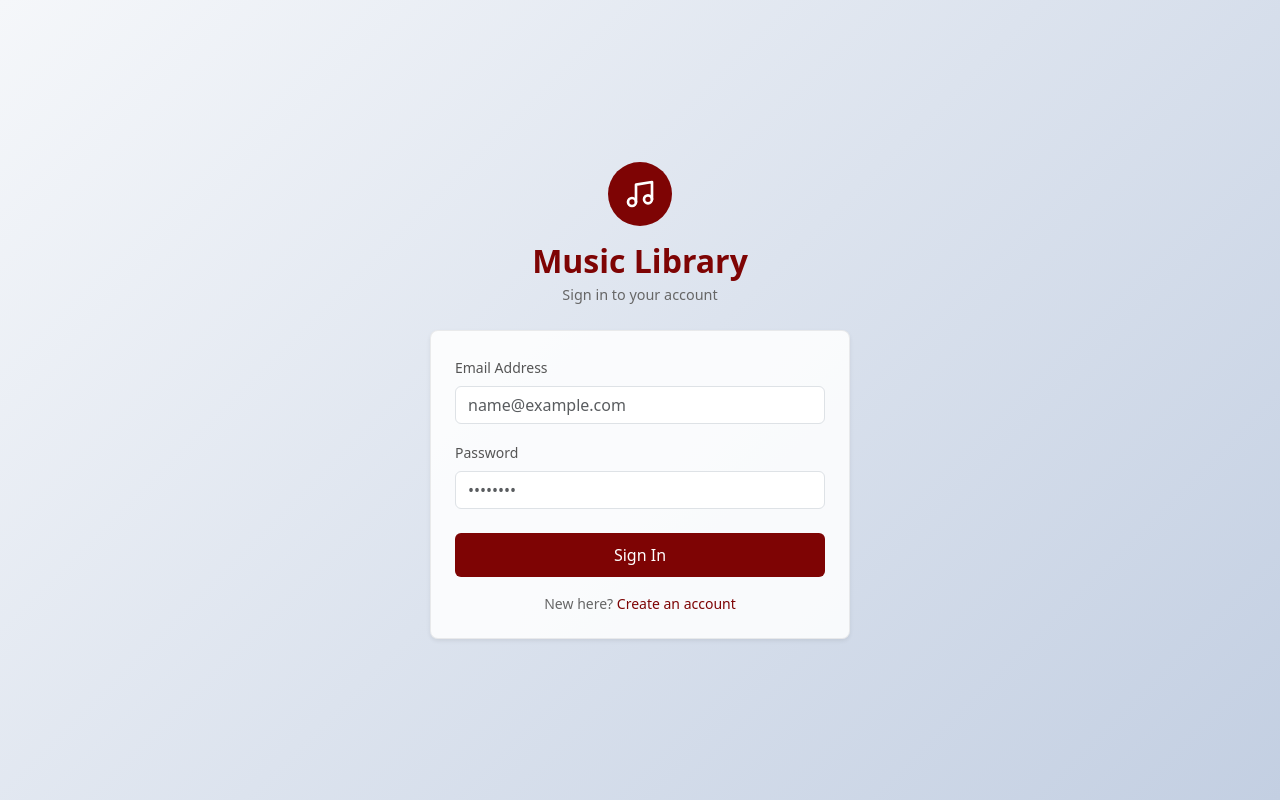
Test case: Login Page › should show validation error for short password
Step 1. Type "abc" into the password field with placeholder "••••••••" → (640, 490), box x1=455 y1=471 x2=825 y2=509
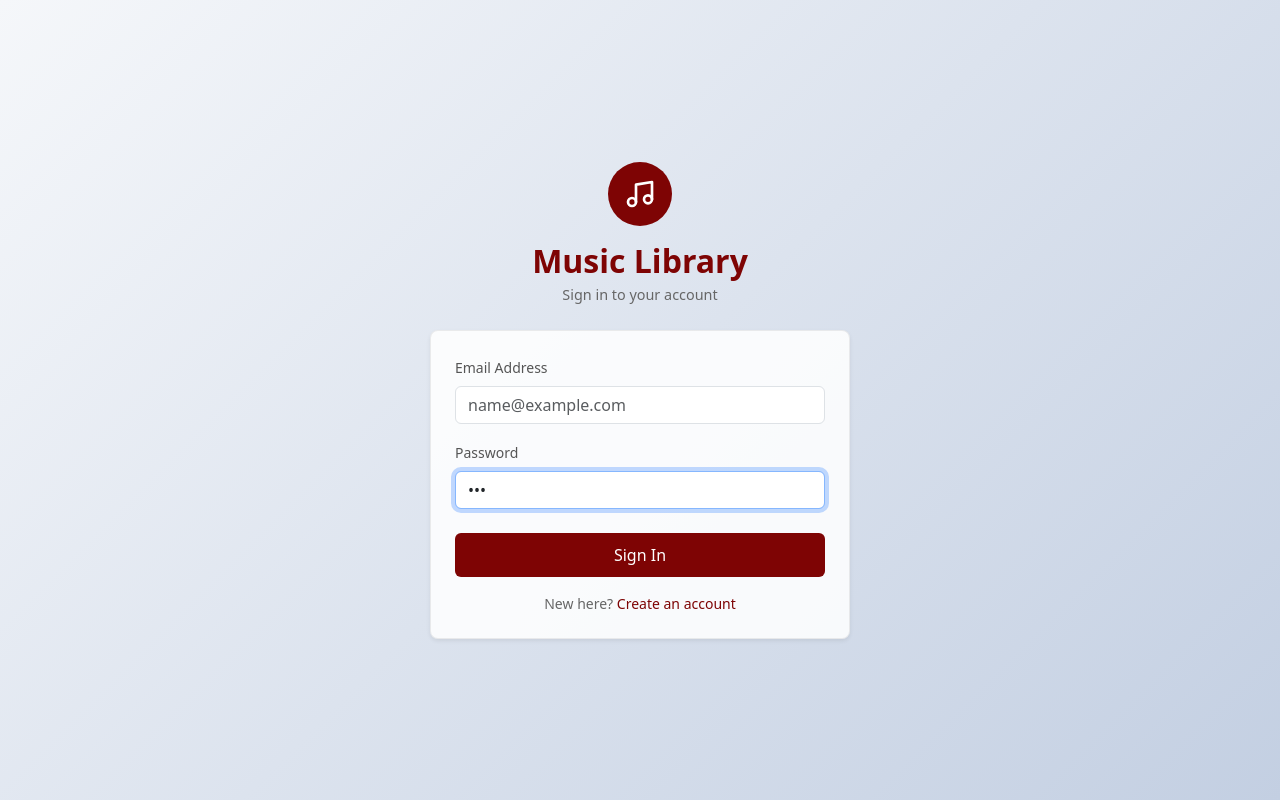
Step 2. Leave the password field, box x1=455 y1=471 x2=825 y2=509
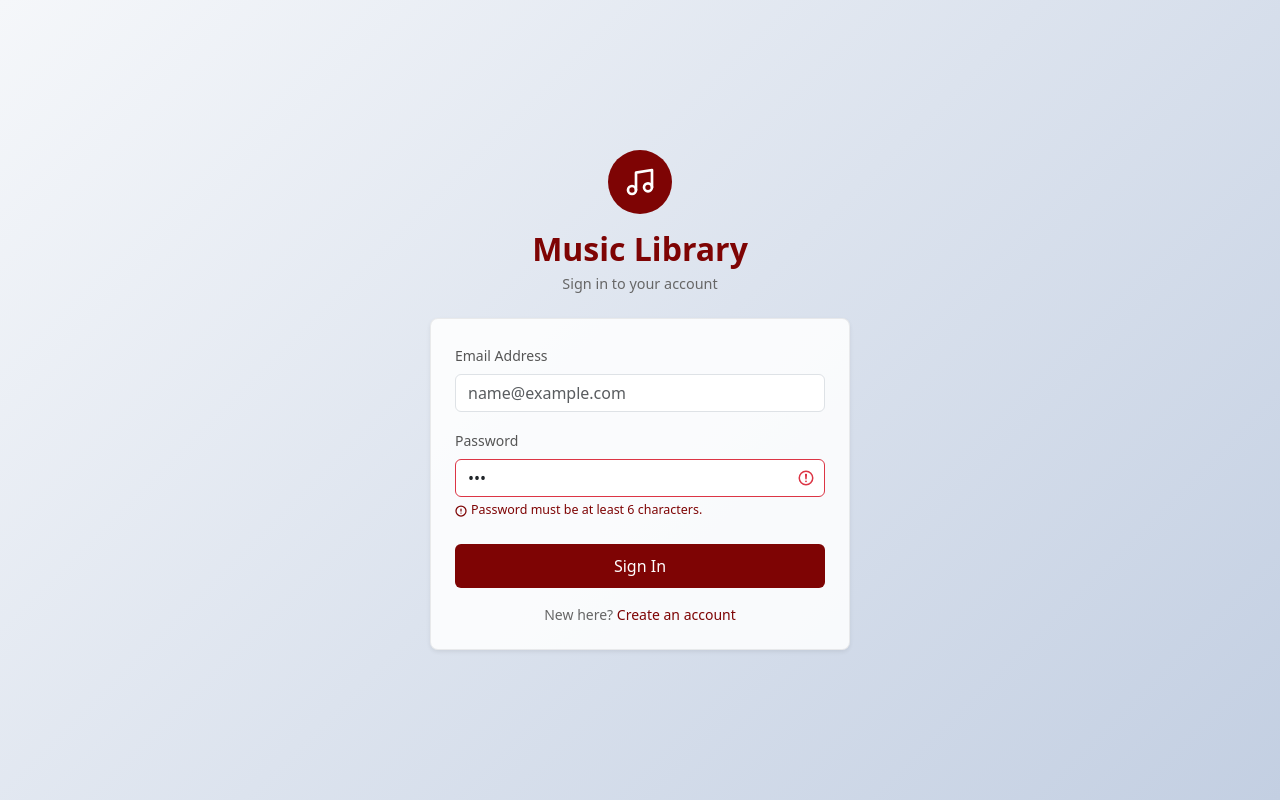
Result: the text "Password must be at least 6 characters" is shown at x1=471 y1=501 x2=702 y2=518
